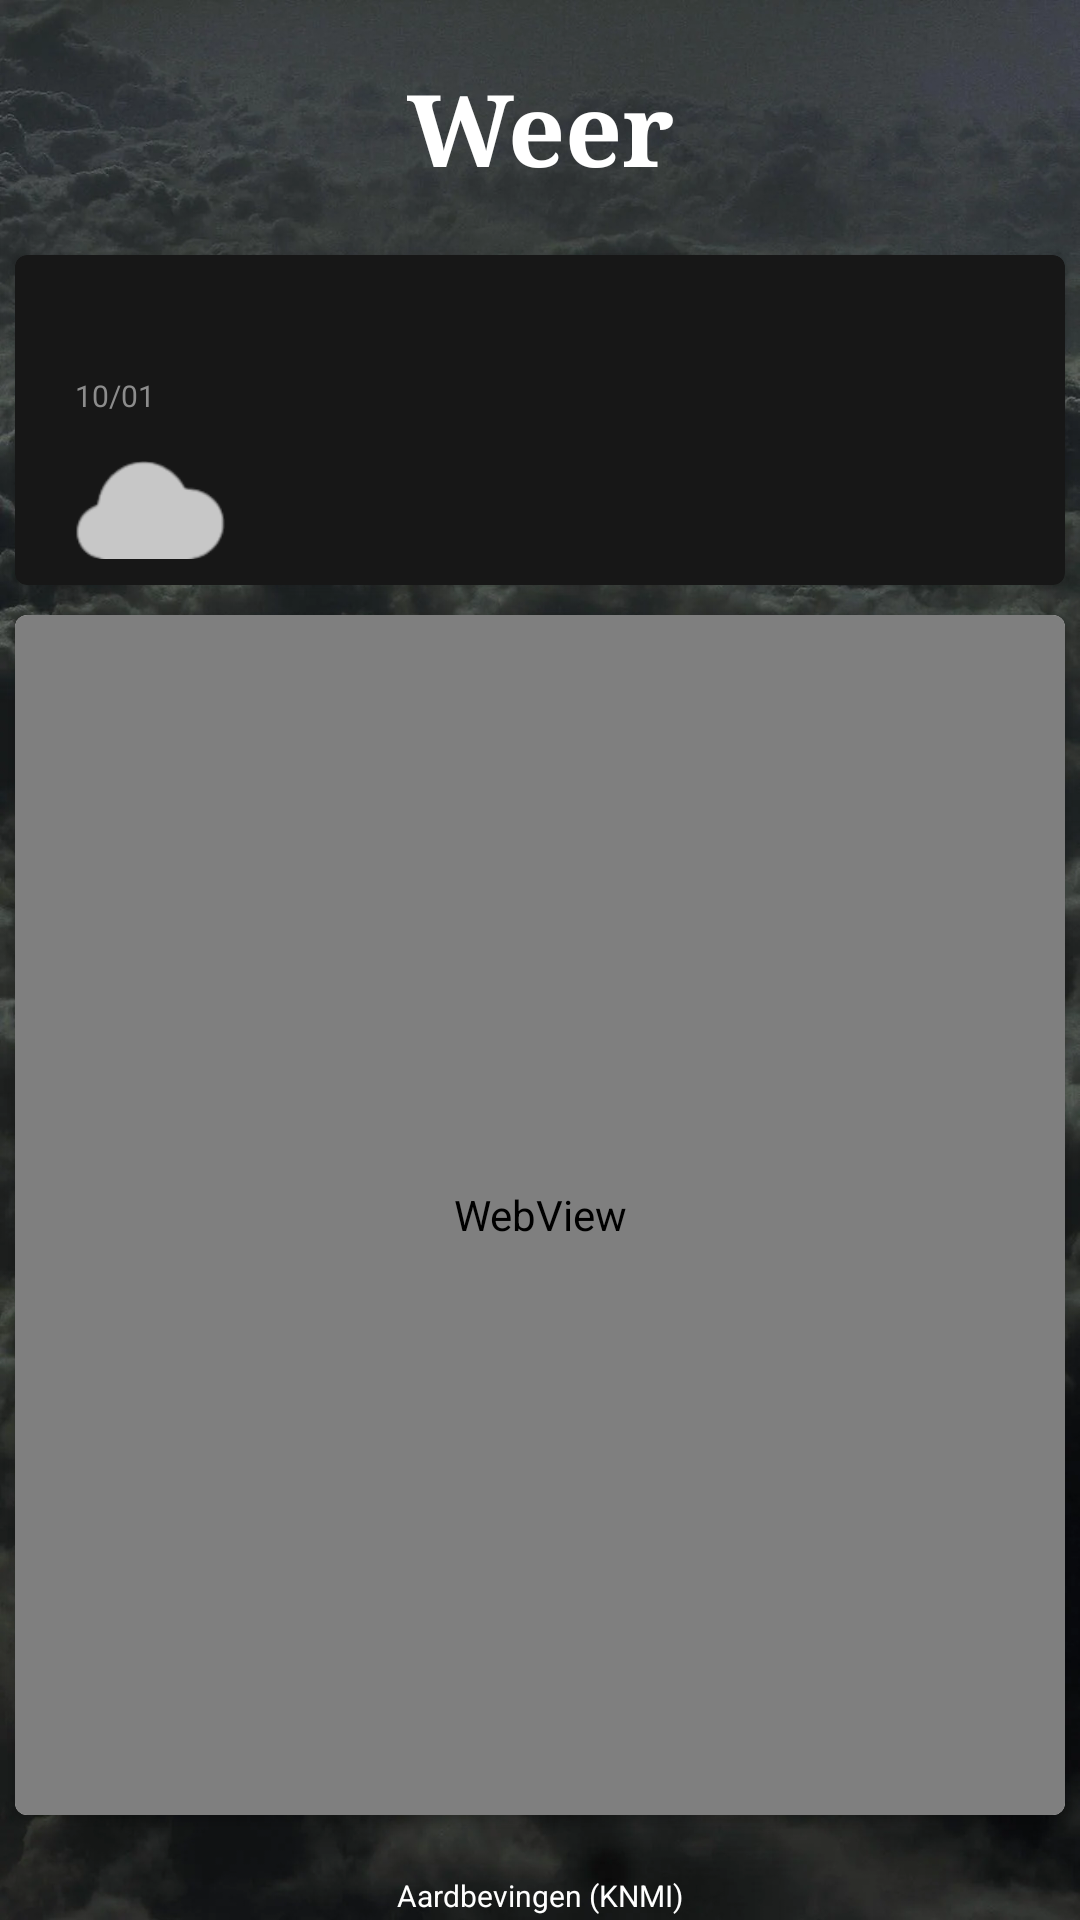

Named icons in this screenshot (1080*1920) and their centers, [x,y]:
cloud symbol: [150,510]
